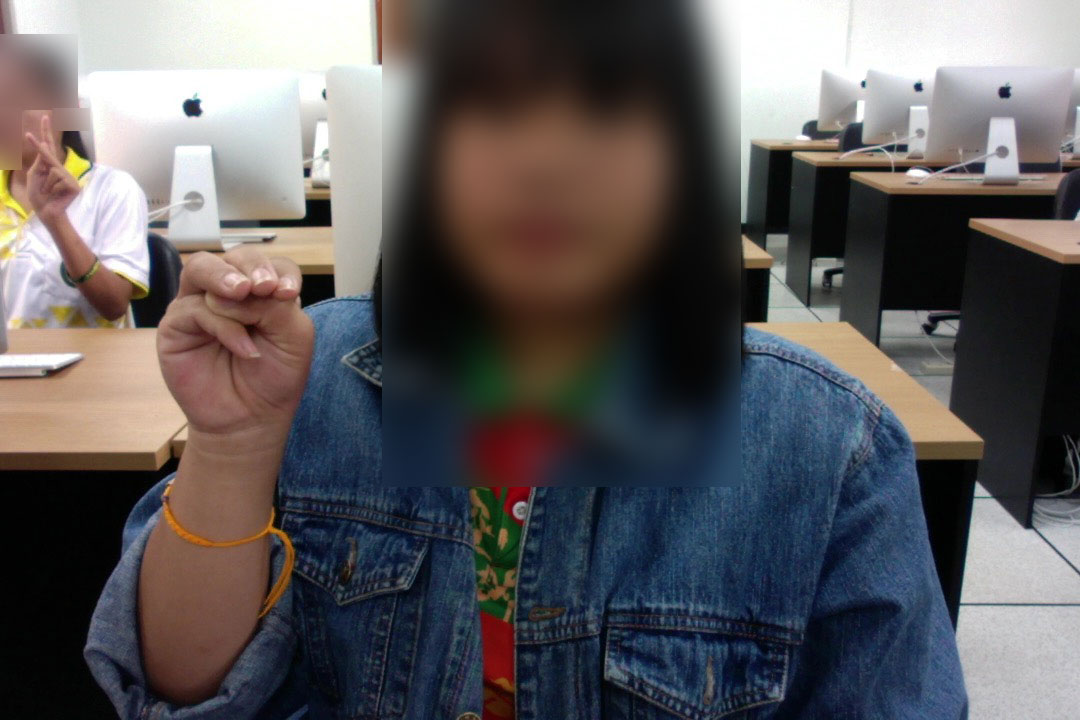mor: (150, 237, 319, 454)
